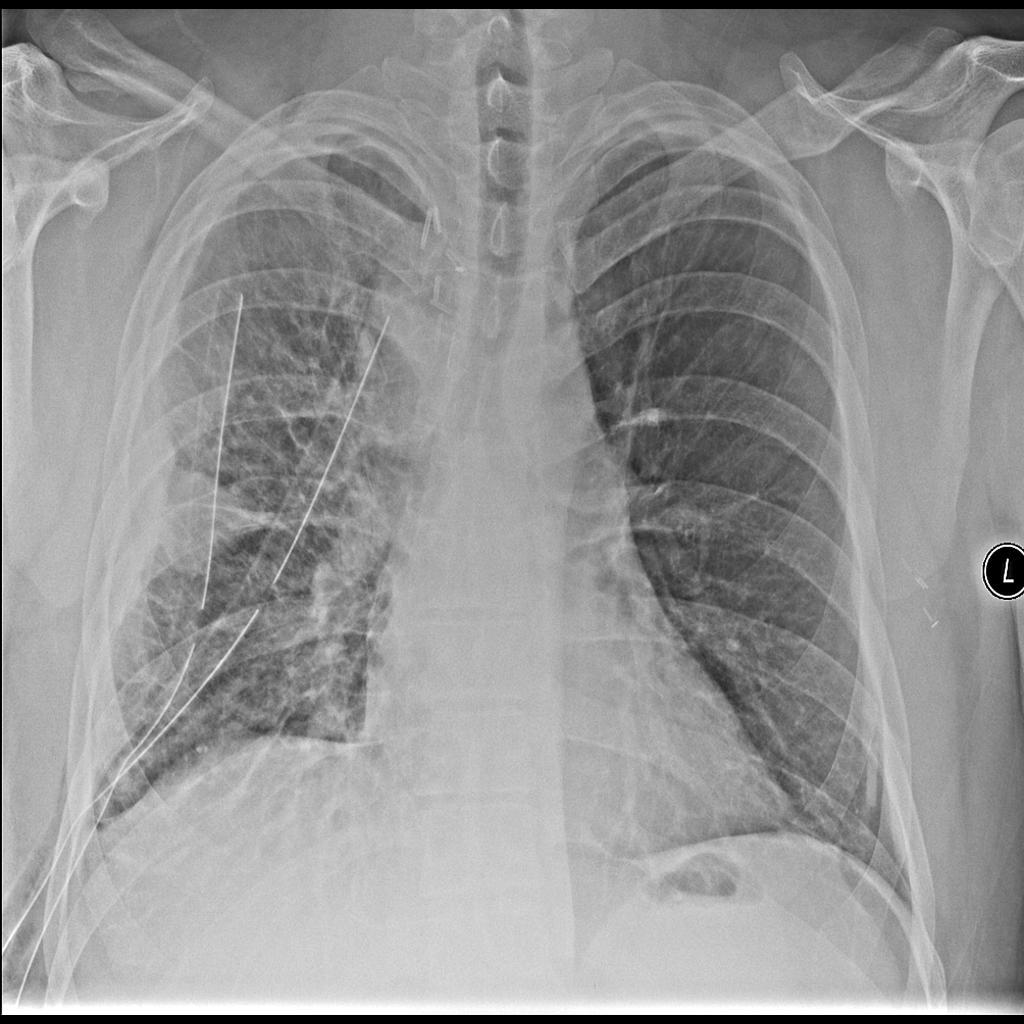Nodule: (141, 466, 262, 574)
